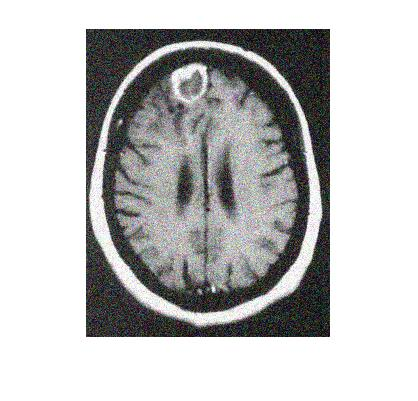Brain_Cancer: (168, 61, 214, 104)
